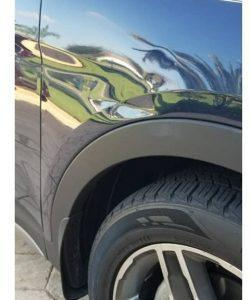dent: (77, 54, 179, 127)
